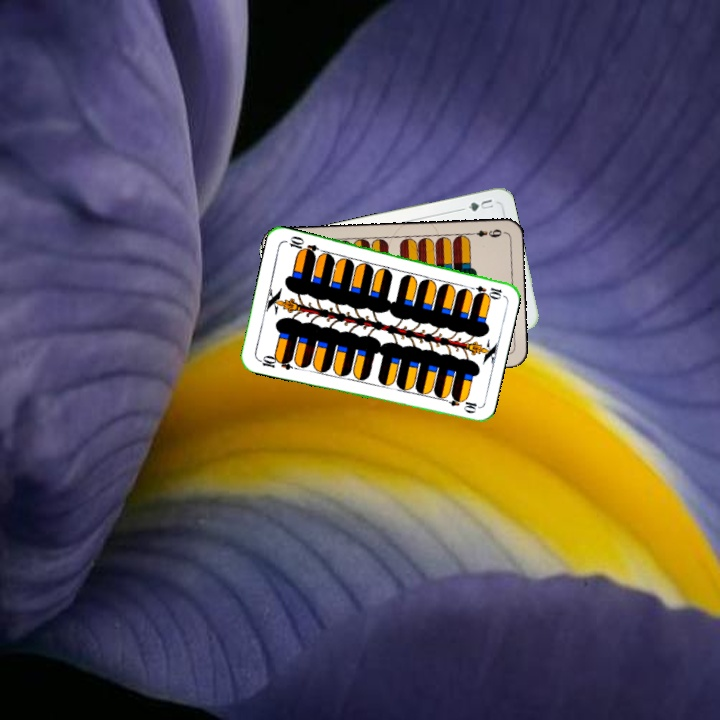E10: (254, 351, 294, 373), (464, 282, 504, 300)
E9: (465, 225, 506, 240)
GU: (464, 195, 497, 214)
